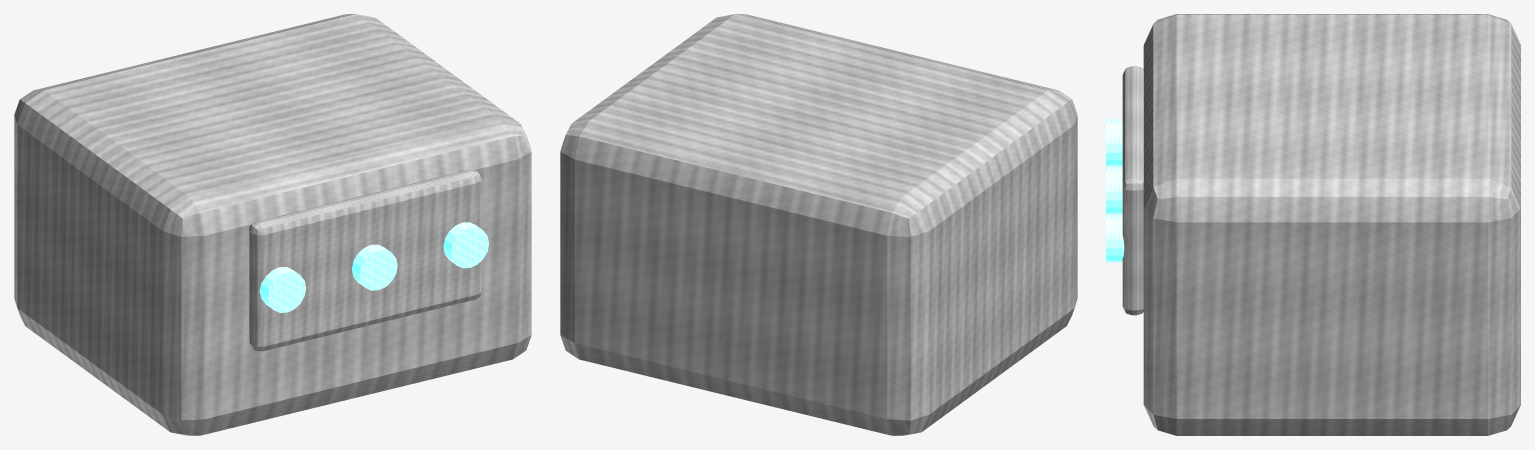
File: item-plastic_variant_a.glb
3 renders of one model, left to right at view 1: azimuth 30°, elevation 25°; view 2: azimuth 150°, elevation 25°; view 3: azimuth 270°, elevation 25°, orthographic. The views are drawn at different scales.
Parts seen in each view (by area): view 1: Component housing.001, Component faceplate.001, Face indicator, Face indicator.001, Face indicator.002; view 2: Component housing.001; view 3: Component housing.001, Component faceplate.001, Face indicator.002, Face indicator, Face indicator.001.
Boxes of the visible parts, x1,y1,x2,y2 form: Component housing.001: [14, 14, 531, 435]; Component faceplate.001: [249, 170, 481, 351]; Face indicator: [259, 267, 305, 312]; Face indicator.001: [352, 244, 397, 290]; Face indicator.002: [443, 222, 488, 268]; Component housing.001: [560, 14, 1077, 435]; Component housing.001: [1143, 14, 1520, 435]; Component faceplate.001: [1122, 66, 1143, 315]; Face indicator.002: [1106, 215, 1124, 262]; Face indicator: [1106, 119, 1122, 166]; Face indicator.001: [1106, 167, 1122, 214].
Size of what is drawn, in the model's own units: 0.48 by 0.3 by 0.44.
3 materials, 3 textured.
